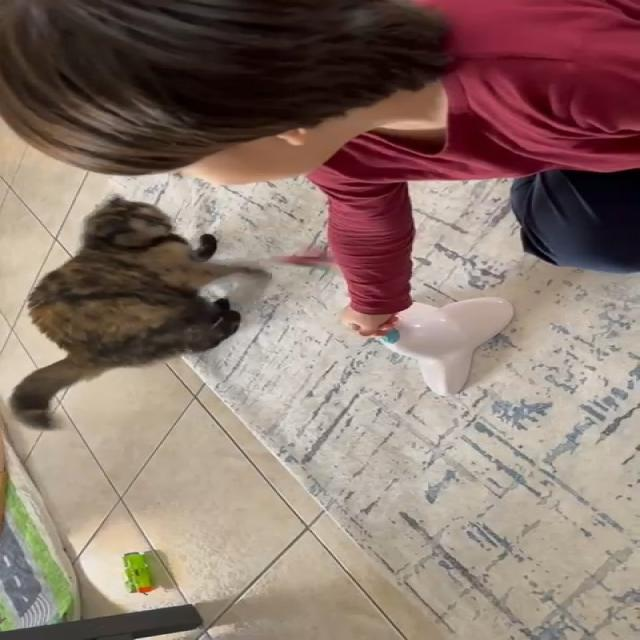authorized: (7, 193, 266, 430)
